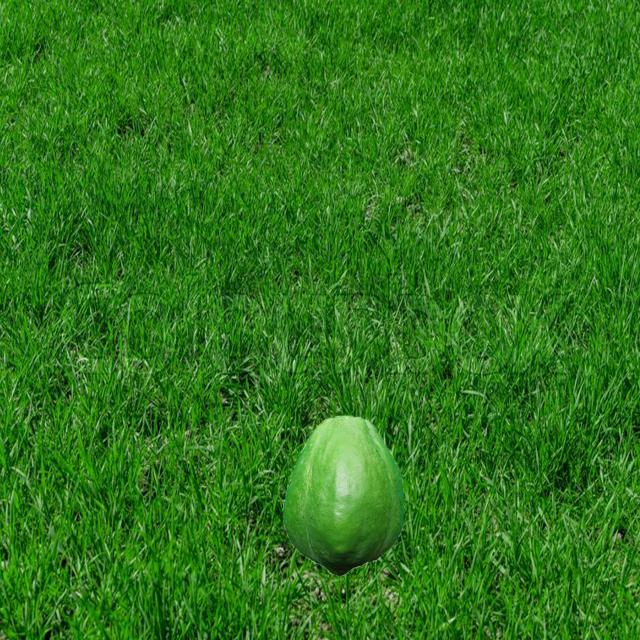Pepaya unrippen: (276, 414, 422, 581)
